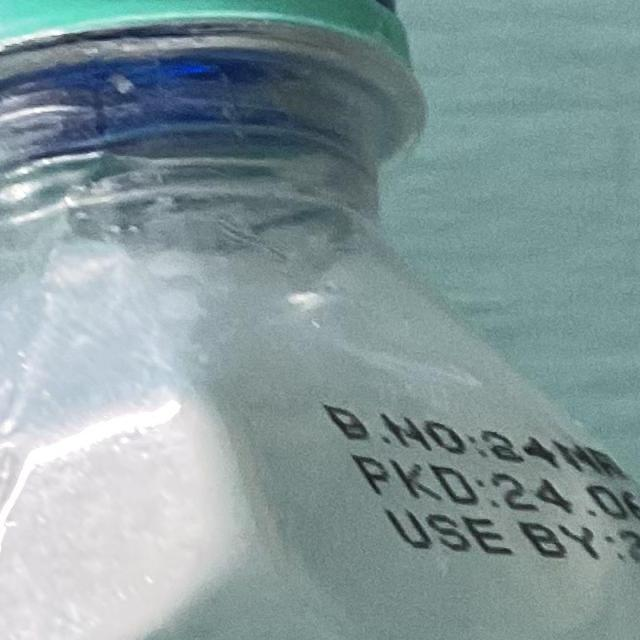Good-cap-Df0S: (0, 0, 462, 120)
